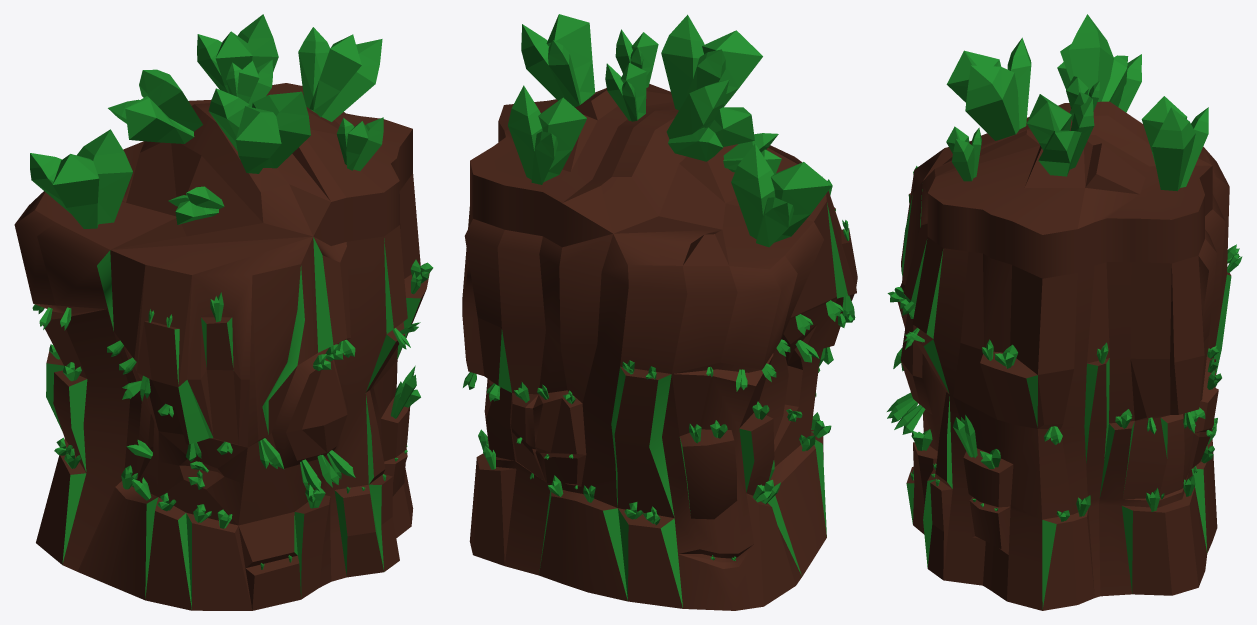
The model's file is Emerald_8_Cup.fbx.
3 views of the same model, side by side, from view 1: azimuth 30°, elevation 25°; view 2: azimuth 150°, elevation 25°; view 3: azimuth 270°, elevation 25° (orthographic).
Parts seen in each view (by area): view 1: Rock_8_Cup_SoL, Rock_8_Cup_SoL.001, Rock_8_Cup_SoL.003, Rock_8_Cup_SoL.004, Rock_8_Cup_SoL.002, Rock_8_Cup_SoL.006, Rock_8_Cup_SoL.005, Rock_8_Cup_SoL.007, Rock_8_Cup_SoL.072; view 2: Rock_8_Cup_SoL, Rock_8_Cup_SoL.001, Rock_8_Cup_SoL.003, Rock_8_Cup_SoL.002, Rock_8_Cup_SoL.004, Rock_8_Cup_SoL.005, Rock_8_Cup_SoL.006, Rock_8_Cup_SoL.007; view 3: Rock_8_Cup_SoL, Rock_8_Cup_SoL.002, Rock_8_Cup_SoL.003, Rock_8_Cup_SoL.004, Rock_8_Cup_SoL.006, Rock_8_Cup_SoL.001, Rock_8_Cup_SoL.005, Rock_8_Cup_SoL.072.
Boxes of the visible parts, x1,y1,x2,y2 form: Rock_8_Cup_SoL: (14, 83, 429, 610); Rock_8_Cup_SoL.001: (30, 129, 132, 228); Rock_8_Cup_SoL.003: (298, 27, 382, 121); Rock_8_Cup_SoL.004: (108, 69, 202, 143); Rock_8_Cup_SoL.002: (197, 14, 278, 93); Rock_8_Cup_SoL.006: (337, 117, 383, 170); Rock_8_Cup_SoL.005: (226, 59, 272, 107); Rock_8_Cup_SoL.007: (168, 186, 224, 224); Rock_8_Cup_SoL.072: (391, 365, 416, 418); Rock_8_Cup_SoL: (462, 14, 857, 610); Rock_8_Cup_SoL.001: (731, 143, 832, 247); Rock_8_Cup_SoL.003: (521, 14, 595, 107); Rock_8_Cup_SoL.002: (508, 85, 586, 184); Rock_8_Cup_SoL.004: (666, 79, 754, 161); Rock_8_Cup_SoL.005: (605, 62, 646, 121); Rock_8_Cup_SoL.006: (615, 29, 658, 87); Rock_8_Cup_SoL.007: (723, 133, 781, 173); Rock_8_Cup_SoL: (897, 37, 1231, 610); Rock_8_Cup_SoL.002: (1141, 96, 1208, 191); Rock_8_Cup_SoL.003: (1026, 94, 1094, 176); Rock_8_Cup_SoL.004: (1060, 14, 1128, 103); Rock_8_Cup_SoL.006: (946, 126, 981, 181); Rock_8_Cup_SoL.001: (1057, 54, 1141, 112); Rock_8_Cup_SoL.005: (1066, 76, 1099, 121); Rock_8_Cup_SoL.072: (953, 415, 977, 457).
Bounding box in the file's own units: 1650 × 2176 × 1459.
